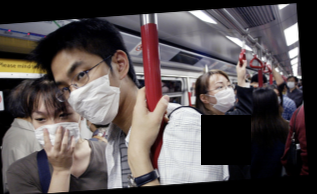with_mask: (54, 58, 121, 125), (31, 102, 81, 154), (208, 78, 237, 114), (286, 77, 296, 89)
